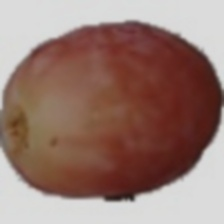grapes: (41, 21, 206, 163)
